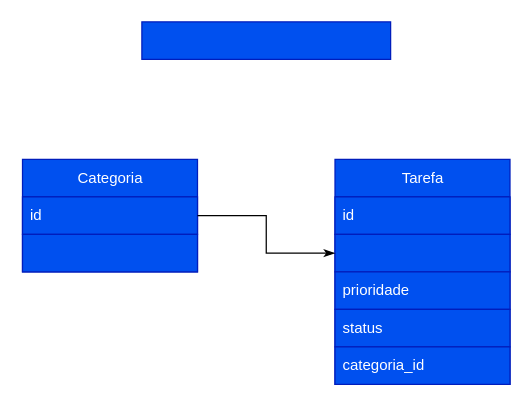
Image size: 531x406. Some labels were removed from this diagram. Here are the shapes that lost their labels. From the top down, the centre of each, then its label:
At point (266, 40): "Diagrama Classes".
At point (109, 252): "nome".
At point (422, 252): "titulo".
